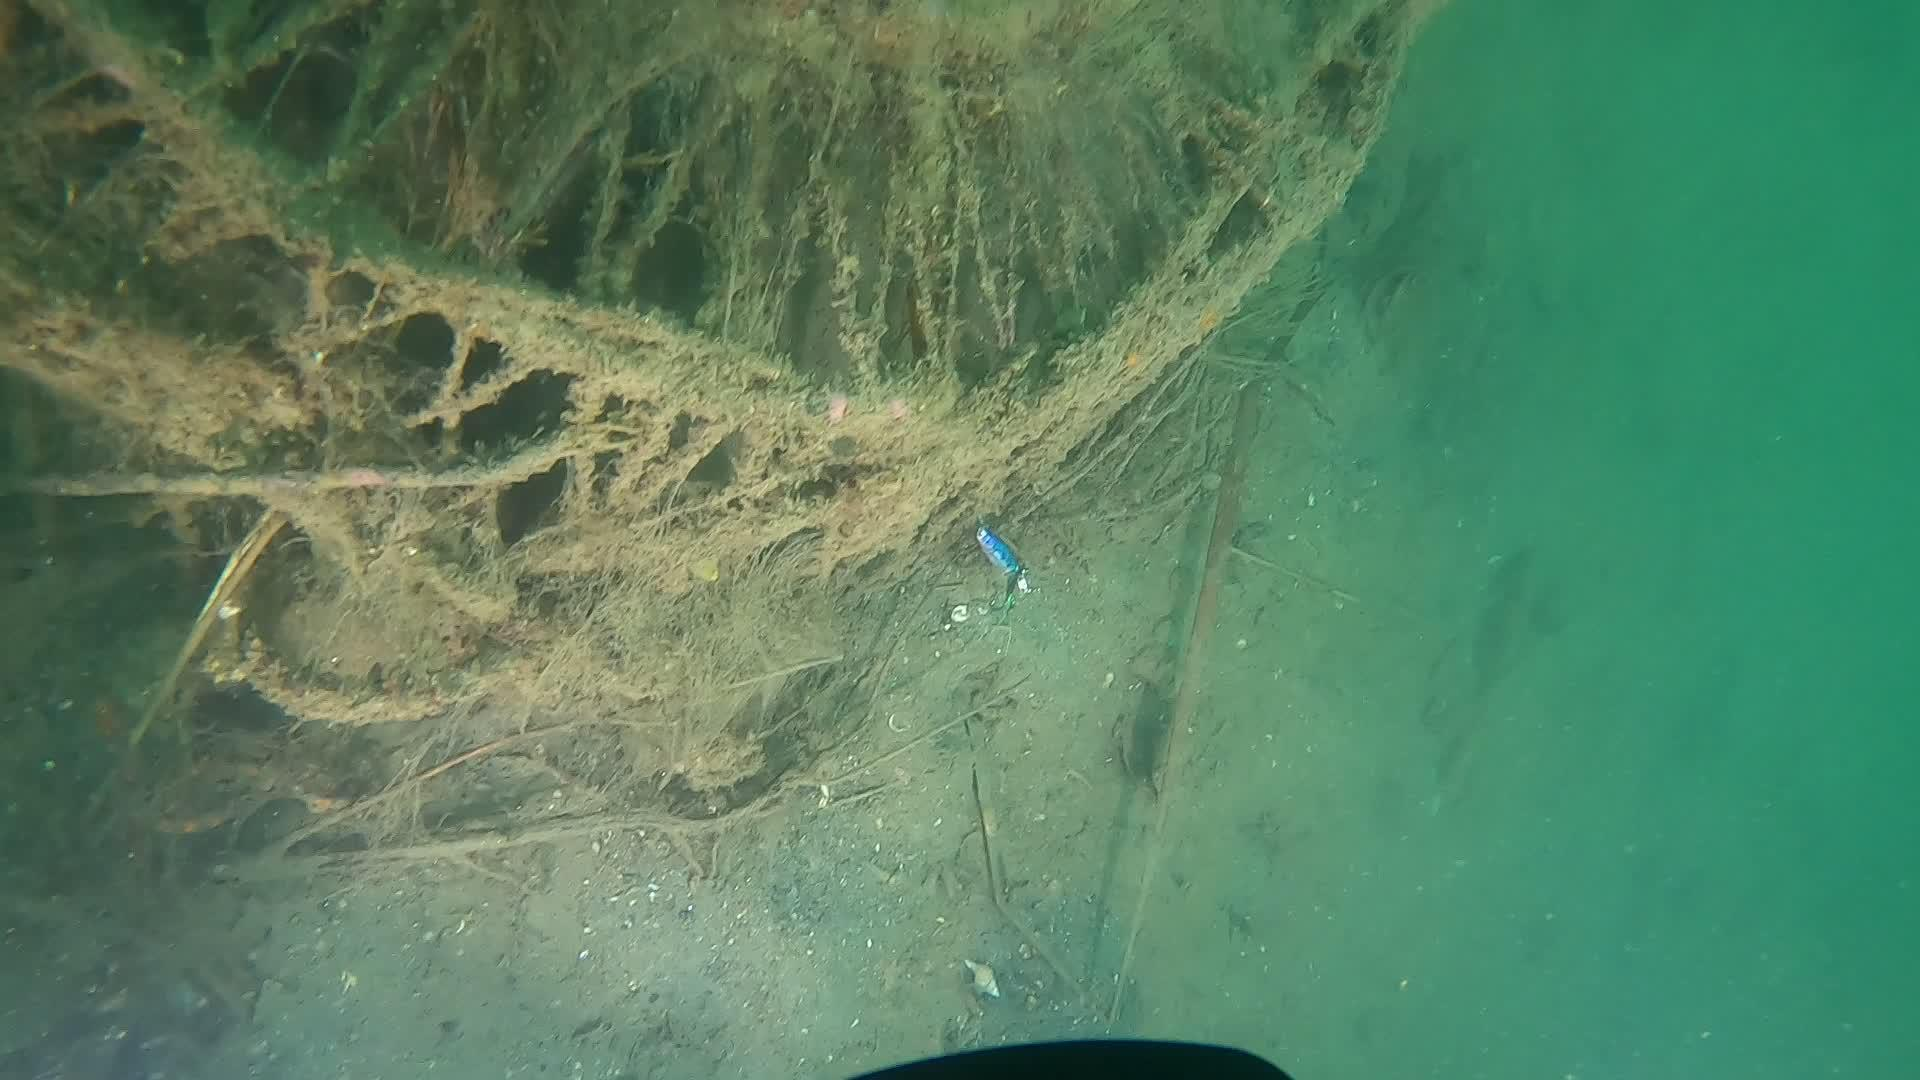circular fish trap: (0, 0, 1423, 593)
